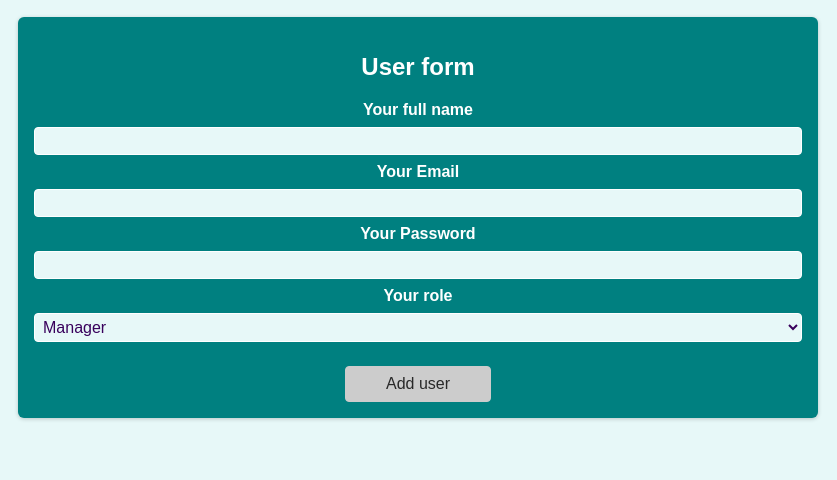
Test: UserForm › renders password error if password lenght is not equal or greater than 5 chars
Type "1234" into the password field named "password-input" at (418, 265), box [34,251,802,279]
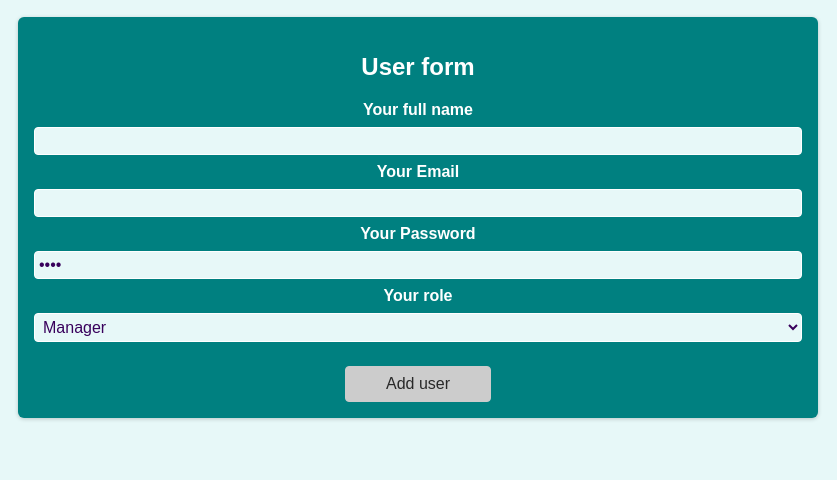
Leave the password field named "password-input", box [34,251,802,279]
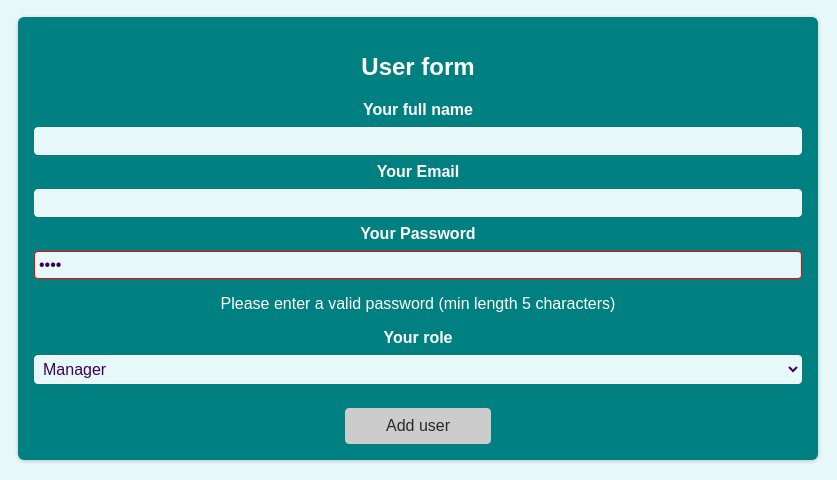
Result: the text "Please enter a valid password (min length 5 characters)" is shown at [221,295,616,312]
